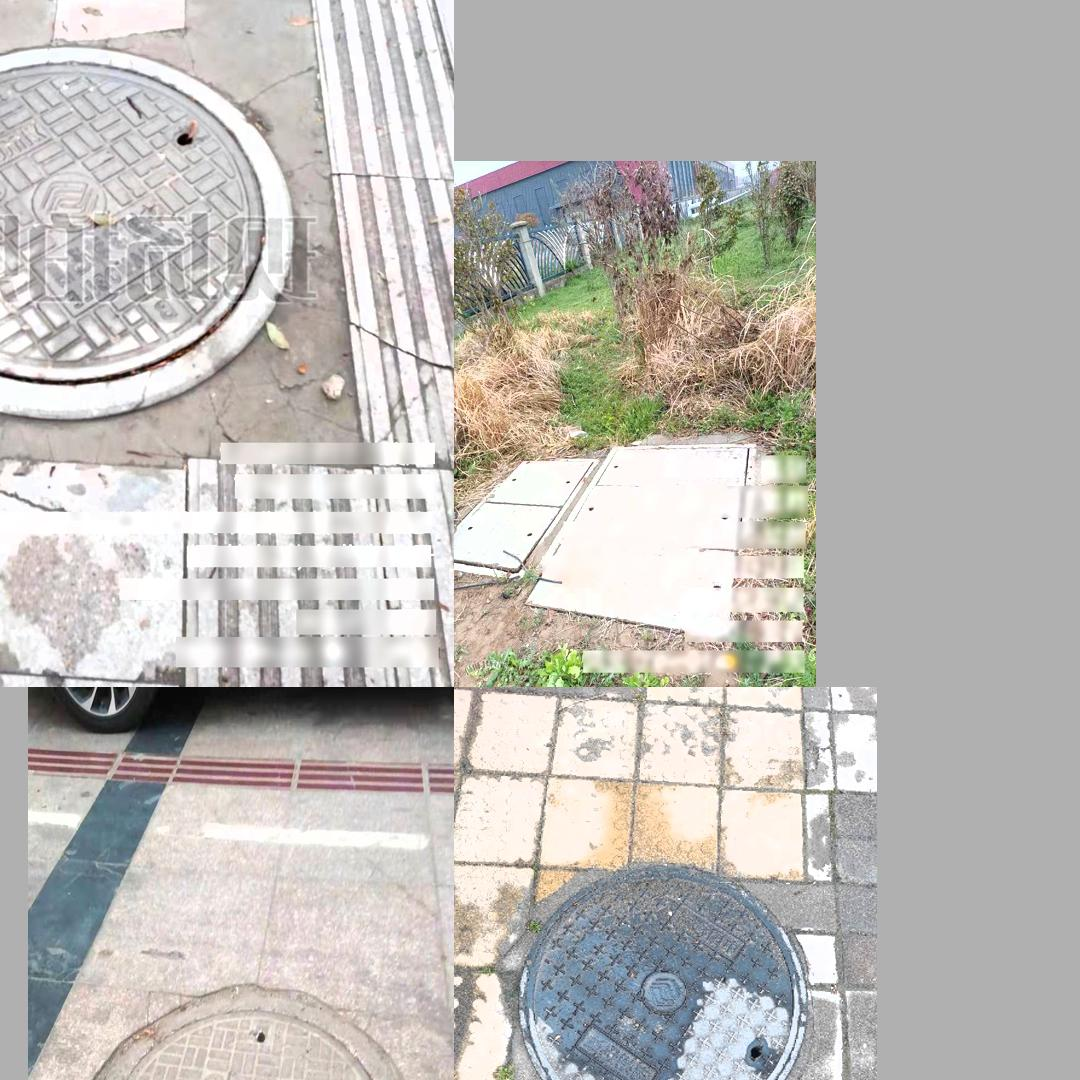good: (0, 44, 291, 420), (516, 865, 805, 1080), (523, 442, 757, 636), (92, 982, 418, 1080), (454, 457, 597, 578)
